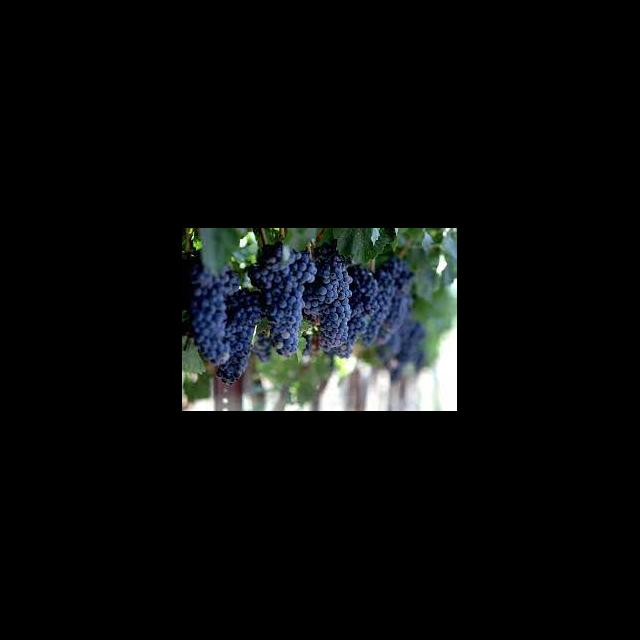grape: (188, 238, 426, 386)
